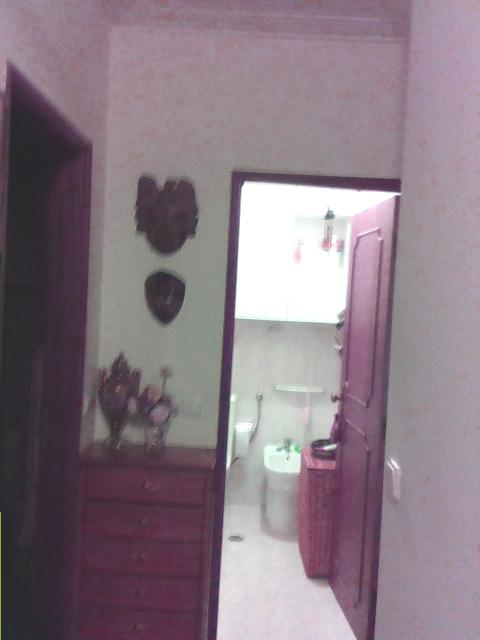open_door: (207, 167, 381, 639)
